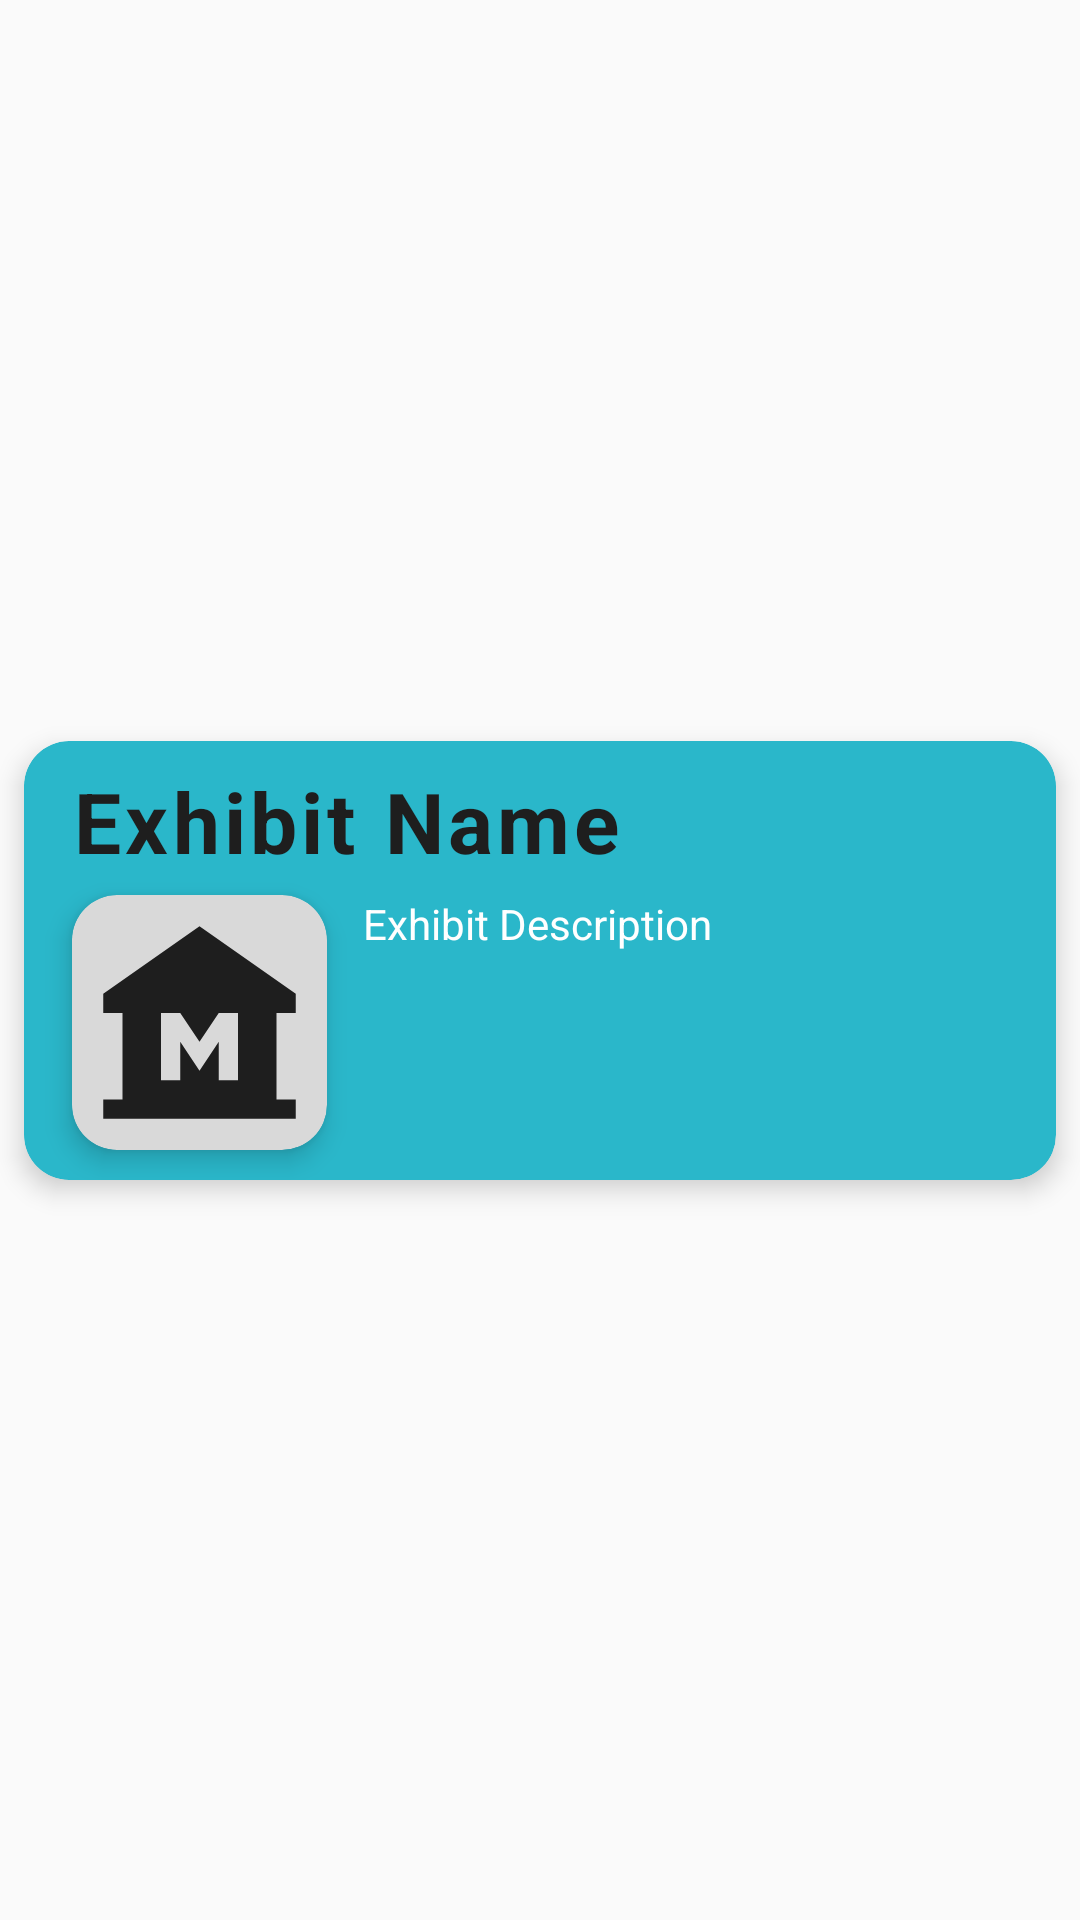

Icons on this 1080w x 1920h Android screen, each with the point to tap as point (x, y):
museum: point (199, 1022)
